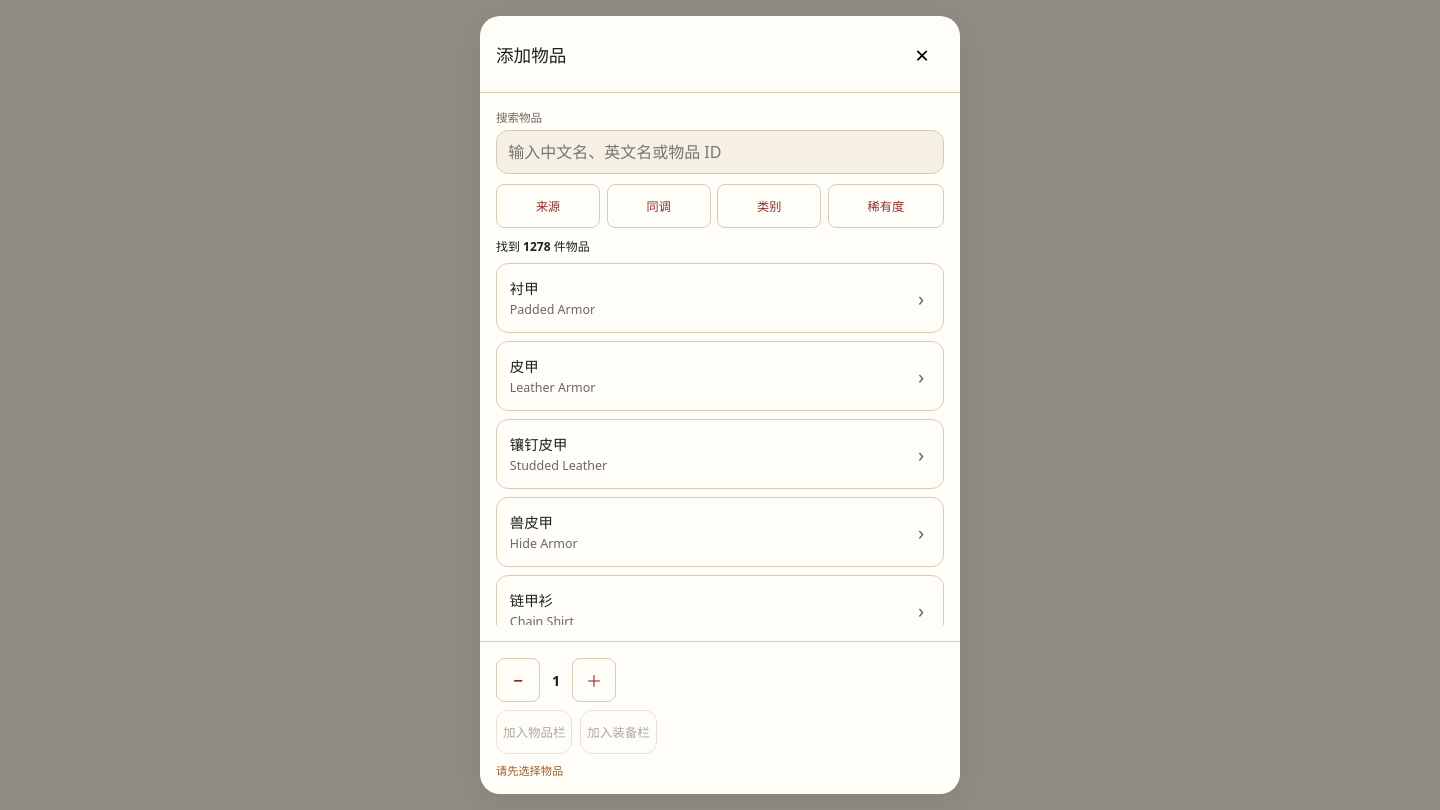
Scenario: AddItemModal › 单击物品条目即展开装备详情（下拉介绍）
This screenshot has width=1440, height=810.
Type "长剑" into the search field labelled "搜索物品". click: (720,152)
box: [496, 130, 944, 174]
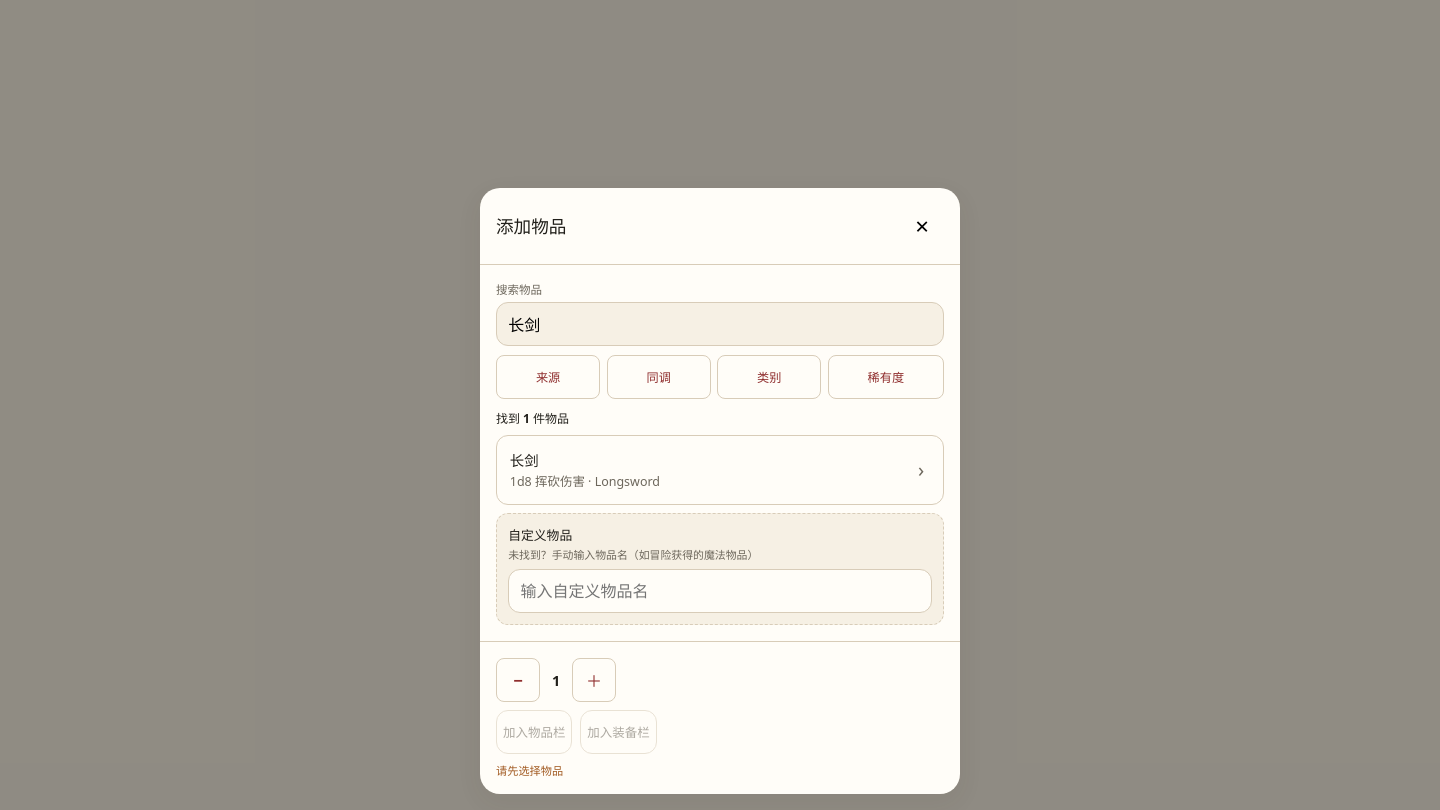
Click the button with class "expandable-option-card__main". click: (585,481)
box: [497, 436, 893, 504]
Wait 300 ms
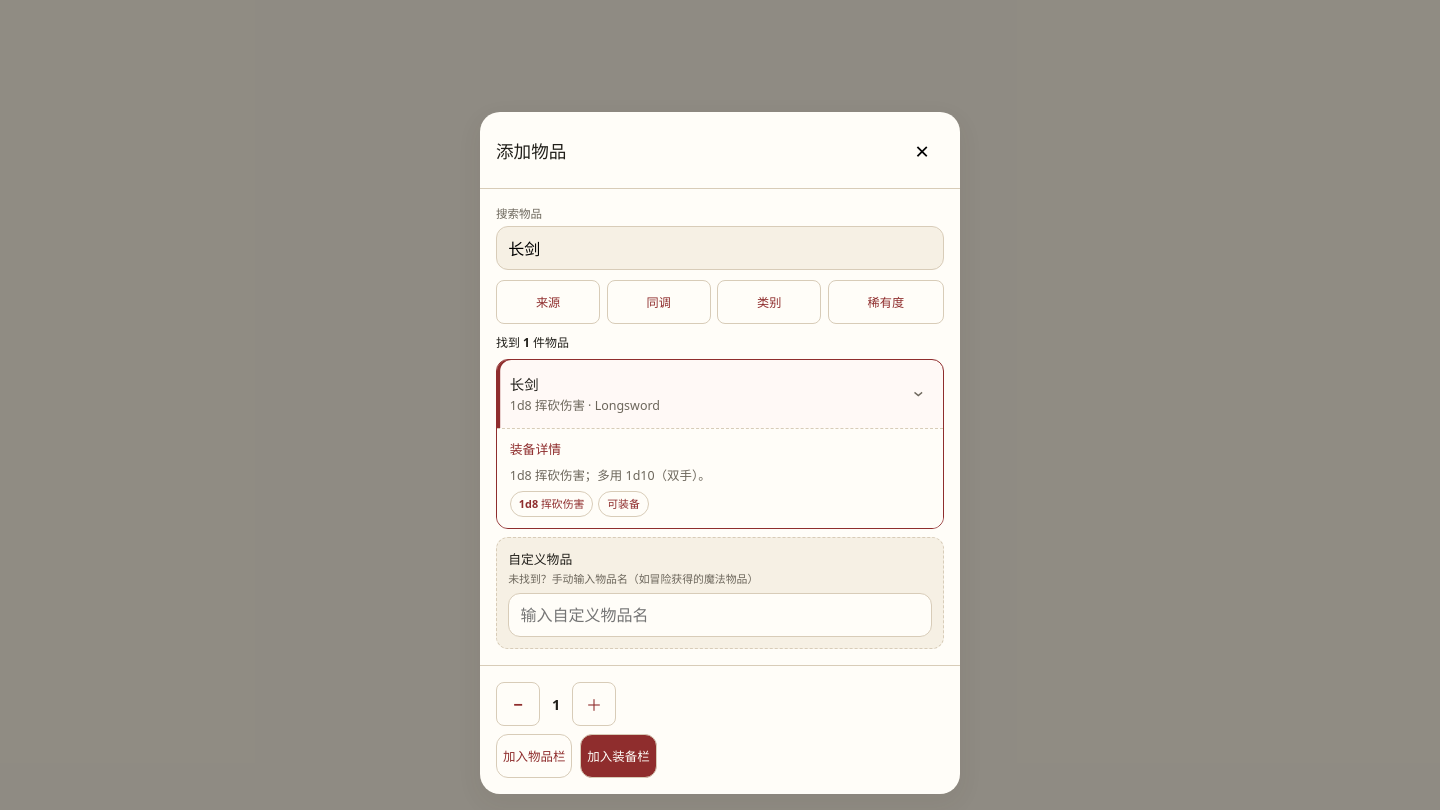
Expected: the element with class "expandable-option-card__growth" is shown, [497, 428, 943, 528]
Expected: the element with class "expandable-option-card__growth" shows "装备详情", [510, 440, 561, 458]
Expected: the element with class "expandable-option-card__growth" shows "多用 1d10（双手）", [510, 467, 711, 484]
